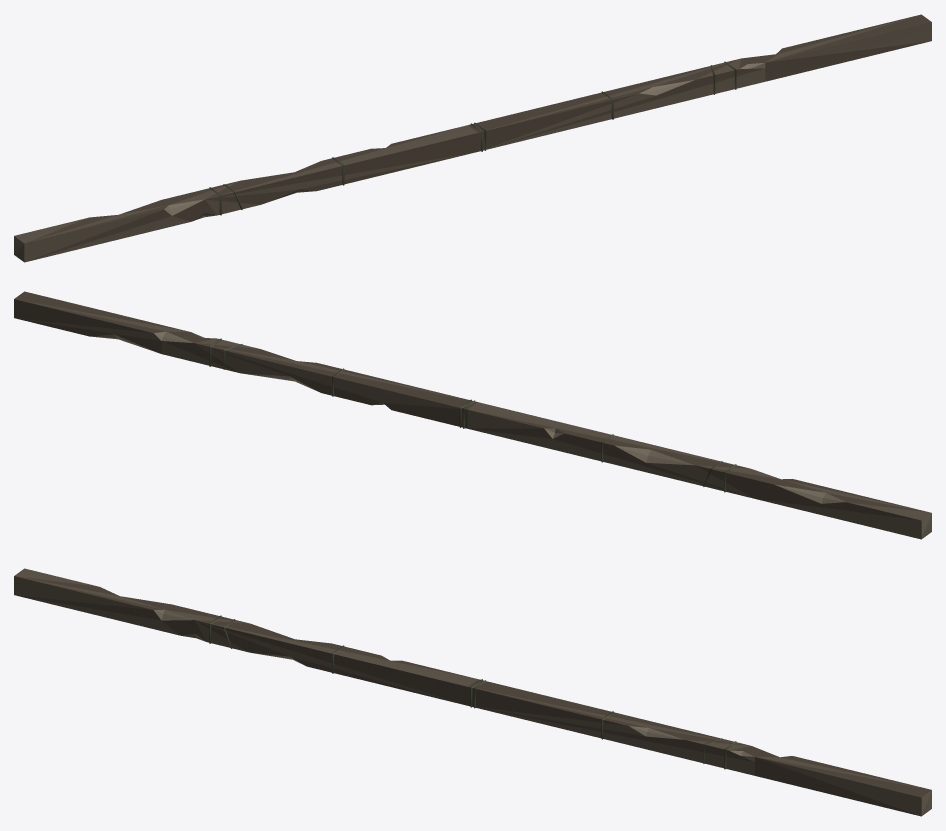
File: Wood_5.fbx
3 views of the same model, one above another, from view 1: azimuth 30°, elevation 25°; view 2: azimuth 150°, elevation 25°; view 3: azimuth 330°, elevation 25° (orthographic).
Parts seen in each view (by area): view 1: polySurface1130; view 2: polySurface1130; view 3: polySurface1130.
Part boxes in pixels (box(x1,y1,x2,y2)): polySurface1130: box(14, 14, 931, 262); polySurface1130: box(14, 291, 931, 539); polySurface1130: box(14, 568, 931, 816).
Bounding box in the file's own units: 20 × 0.4325 × 0.4325.
